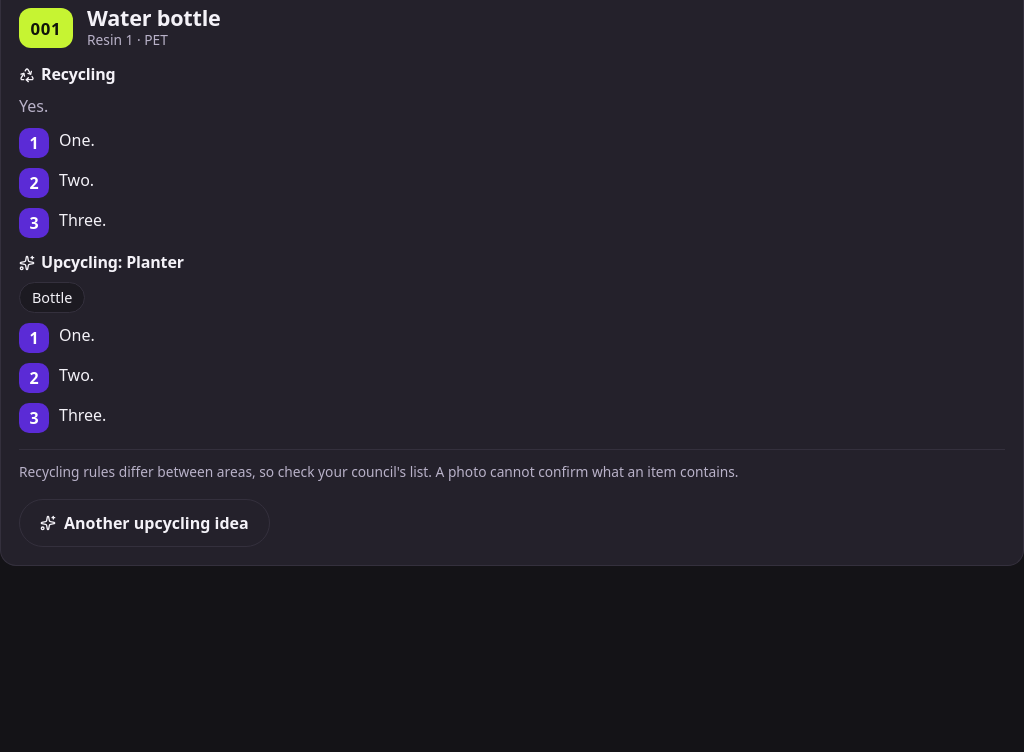
Test: B-11: 'Another idea' asks for a new variant each time and is hidden without Gemini
This screenshot has width=1024, height=752.
Click the button "Another upcycling idea" at (144, 523), box [19,499,270,547]
(page scrolled)
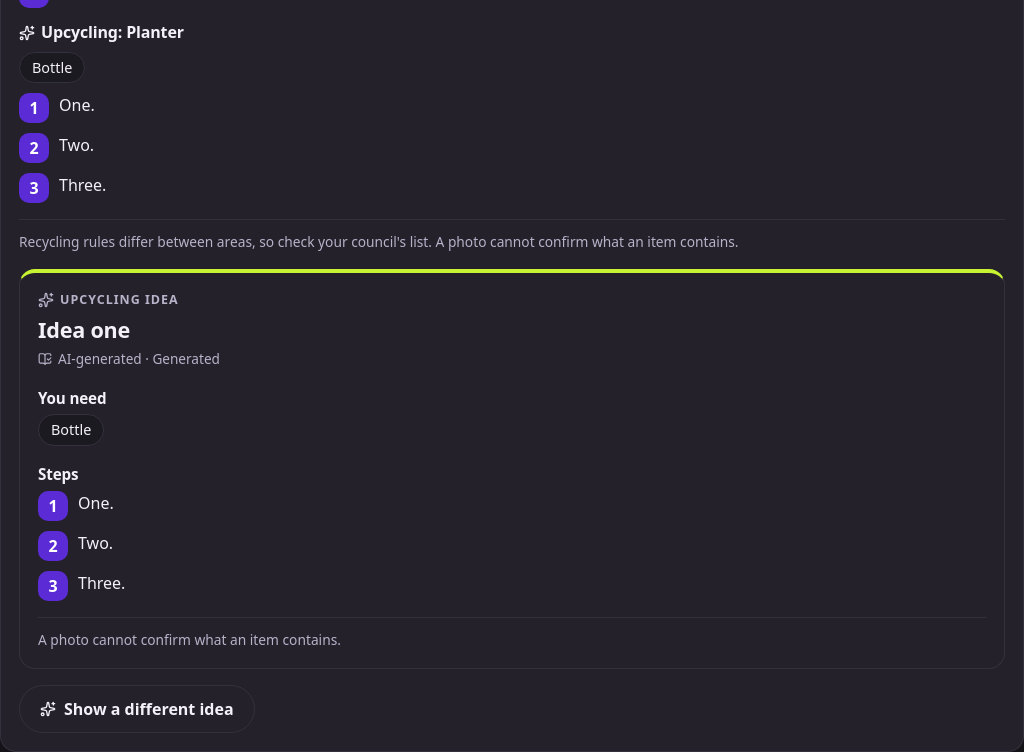
Check: the heading "Idea one" is shown, box [38,314,130,344]
Click the button "Show a different idea" at (137, 709), box [19,685,255,733]
(page scrolled)
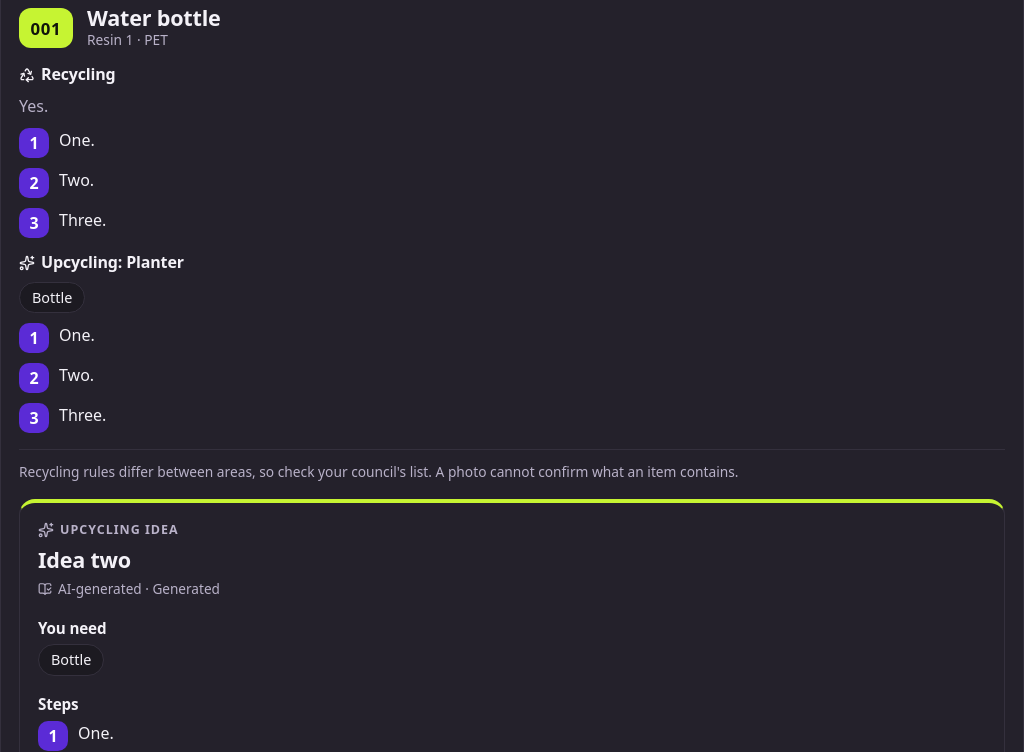
Check: the heading "Idea two" is shown, box [38,544,131,574]
